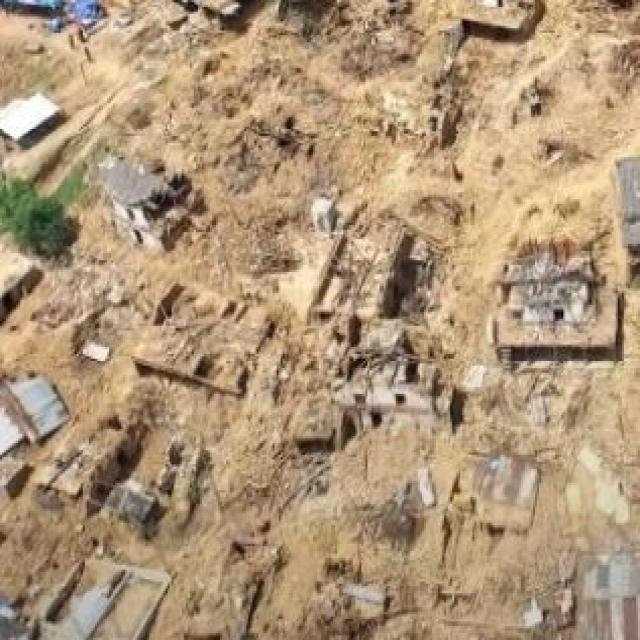collapsed_building: (93, 35, 319, 225), (278, 331, 476, 511), (360, 9, 558, 162), (42, 401, 224, 546), (279, 180, 456, 324), (484, 199, 624, 380), (125, 260, 275, 396)
